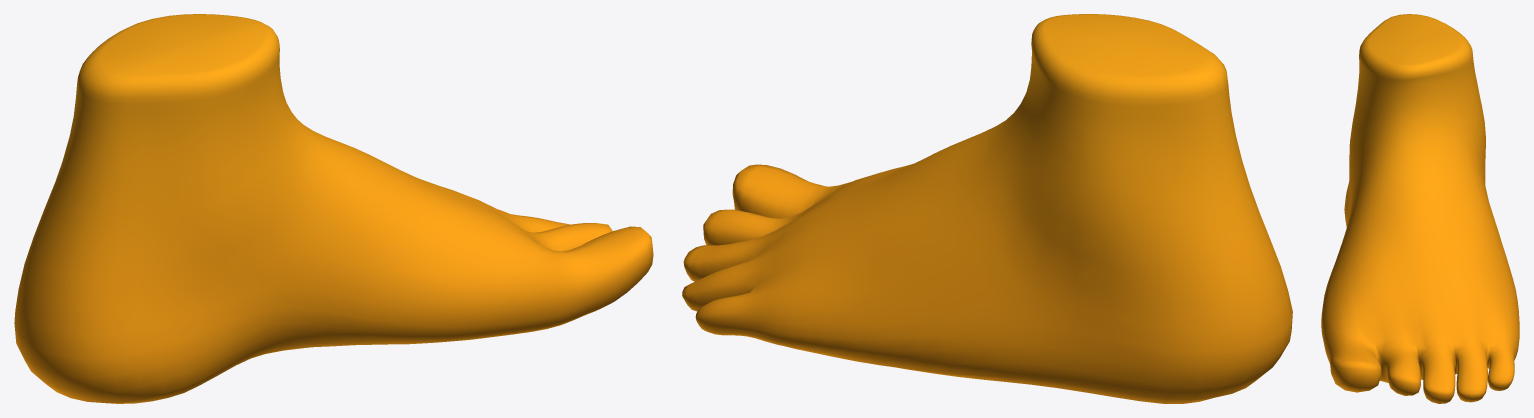
Rendered from foot.glb.
3 renders of one model, left to right at view 1: azimuth 30°, elevation 25°; view 2: azimuth 150°, elevation 25°; view 3: azimuth 270°, elevation 25°, orthographic. The views are drawn at different scales.
Visible parts, largest first — view 1: Circle.273; view 2: Circle.273; view 3: Circle.273.
Boxes of the visible parts, x1,y1,x2,y2 form: Circle.273: (14, 14, 653, 403); Circle.273: (682, 14, 1292, 403); Circle.273: (1321, 14, 1519, 403).
Size of the model in its own units: 1.81 by 0.9902 by 0.764.
2 materials, 2 textured.
